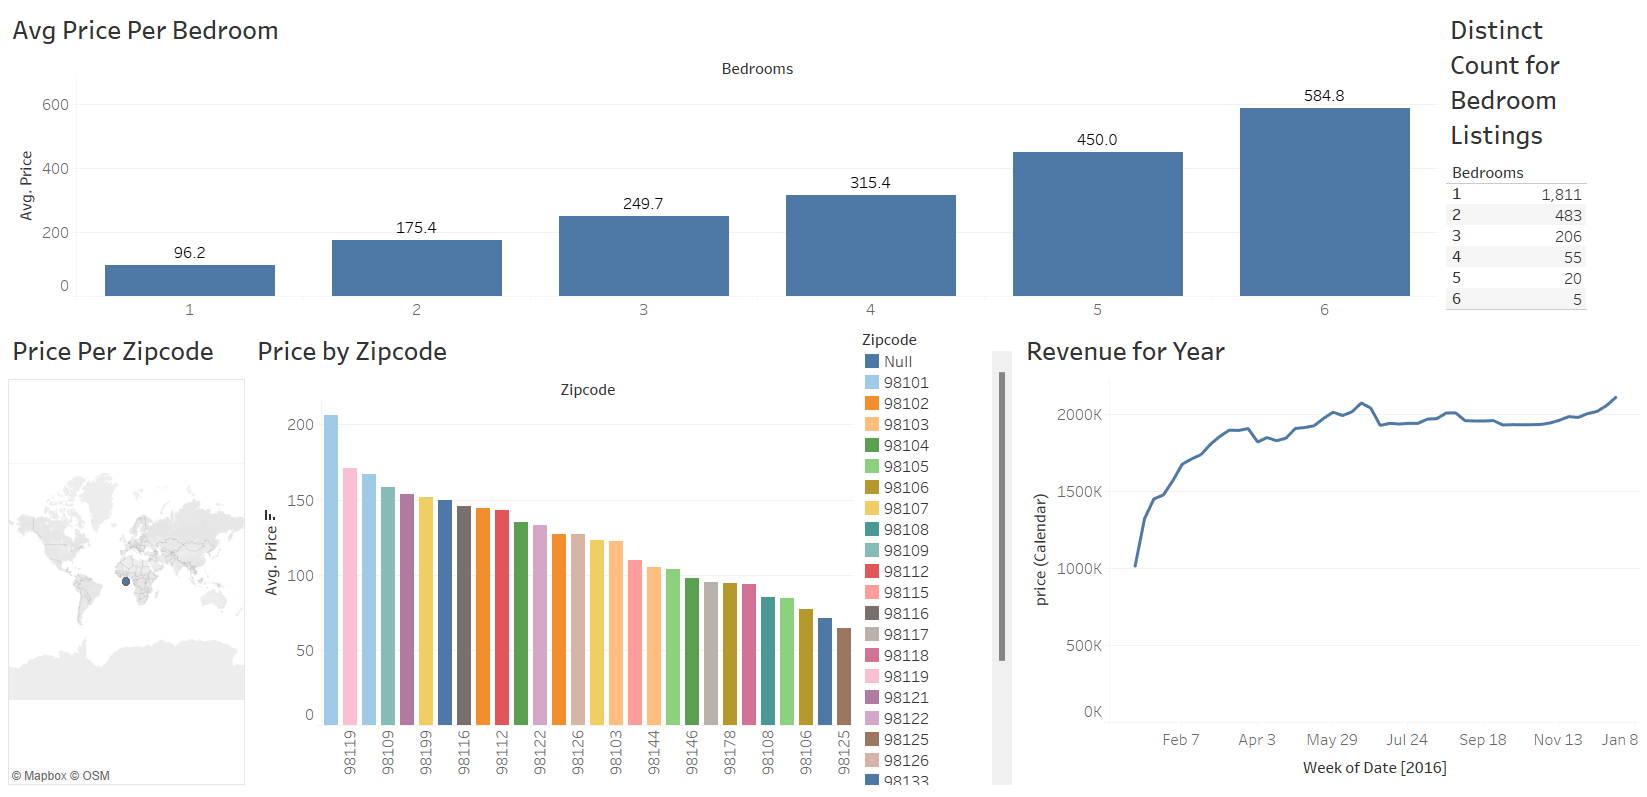

This screenshot's page, from the dashboard's own definition file:
{"tool":"tableau","page":{"name":"Dashboard 1","canvas":[1000,1000],"units":"permille","ordinal":0},"visuals":[{"type":"worksheet","title":"Sheet 4","mark":"Automatic","rows":["price"],"cols":["bedrooms"],"box":[4.8,10,867.8,400.8]},{"type":"worksheet","title":"Sheet 5","mark":"Automatic","rows":["bedrooms"],"box":[872.7,10,122.5,400.8]},{"type":"worksheet","title":"Sheet 2","mark":"Multipolygon","box":[4.8,410.7,147.9,579.3]},{"type":"worksheet","title":"Sheet 1","mark":"Automatic","rows":["price"],"cols":["zipcode"],"box":[152.7,410.7,367.5,579.3]},{"type":"legend","title":"Sheet 1","param":"[federated.1mfr9x116652bw12wxz6c12x4qpl].[none:zipcode:ok]","box":[520.2,410.7,96.6,579.3]},{"type":"worksheet","title":"Sheet 3","mark":"Automatic","rows":["price (Calendar)"],"cols":["date"],"box":[616.8,410.7,378.4,579.3]}]}

Visuals, with their boxes on the dashboard's canvas, which has no fixed pixel size, in thousandths of its width and height (x1, y1, x2, y2). These are canvas units, not pixel positions in the 1647x797 screenshot, which may show the page scaled, cropped or inside an application window:
"Sheet 4" worksheet: (5,10,873,411)
"Sheet 5" worksheet: (873,10,995,411)
"Sheet 2" worksheet (Multipolygon marks): (5,411,153,990)
"Sheet 1" worksheet: (153,411,520,990)
"Sheet 1" legend: (520,411,617,990)
"Sheet 3" worksheet: (617,411,995,990)
